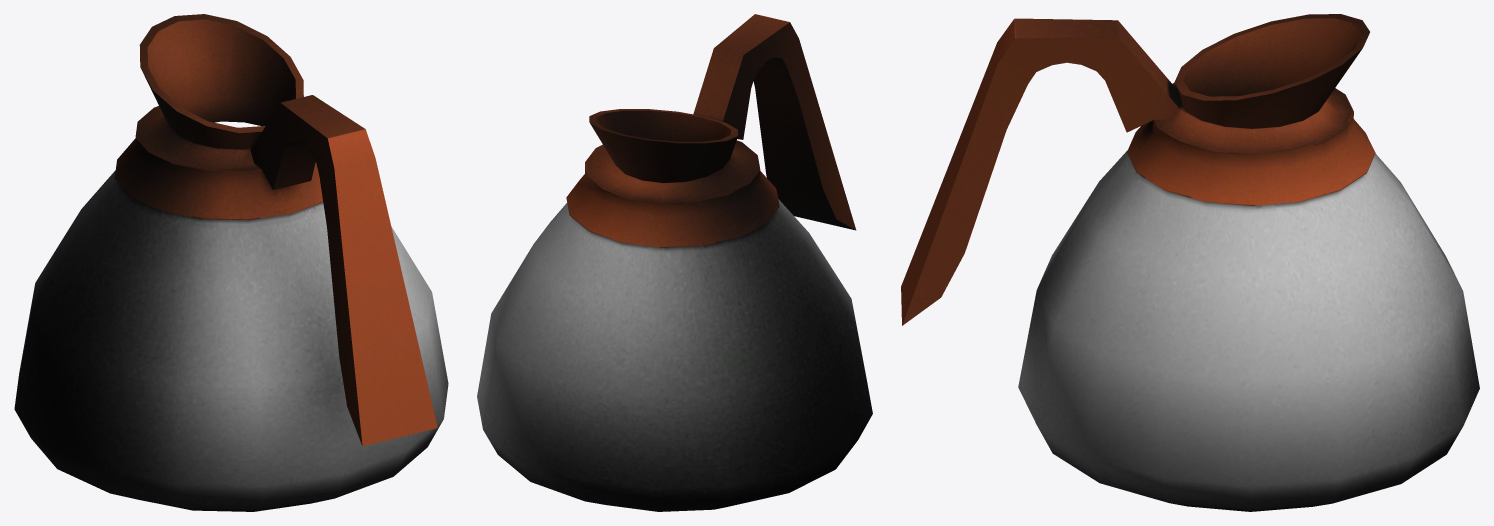
Rendered from coffeepot.glb.
3 renders of one model, left to right at view 1: azimuth 30°, elevation 25°; view 2: azimuth 150°, elevation 25°; view 3: azimuth 270°, elevation 25°, orthographic. The views are drawn at different scales.
Visible parts, largest first — view 1: coffeepot; view 2: coffeepot; view 3: coffeepot.
Boxes of the visible parts, x1,y1,x2,y2 form: coffeepot: (14,14,448,511); coffeepot: (477,14,872,511); coffeepot: (901,14,1479,511).
Size of the model in its own units: 0.2142 by 0.2161 by 0.2686.
Materials: 1 (1 with a texture image).
